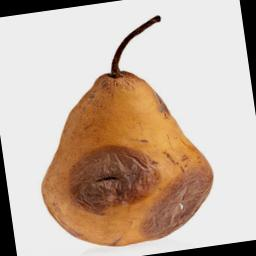Pear Rotten: (18, 5, 223, 256)
